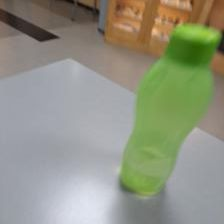bottle: (113, 22, 222, 196)
